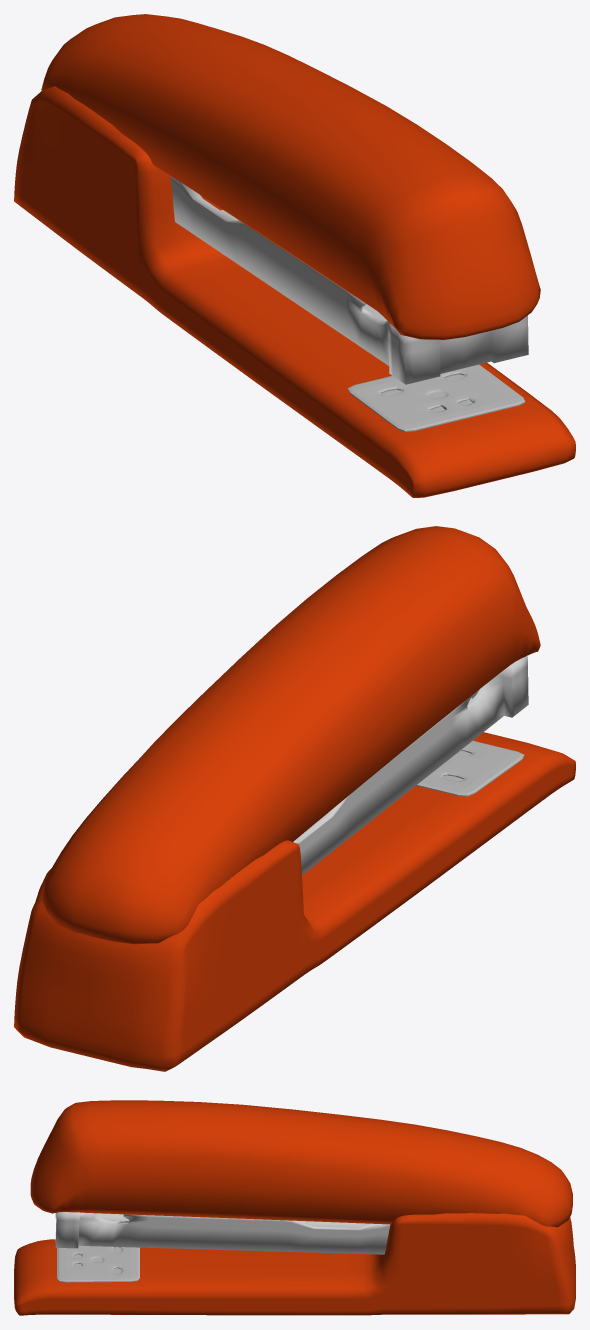
Rendered from stapler.fbx.
The picture shows the model from 3 angles, top to bottom: view 1: azimuth 30°, elevation 25°; view 2: azimuth 150°, elevation 25°; view 3: azimuth 270°, elevation 25°; orthographic projection. The views are drawn at different scales.
Visible parts, largest first — view 1: Handle, Base, Carrier, anvil; view 2: Handle, Base, Carrier, anvil; view 3: Handle, Base, Carrier, anvil, Carrier (interior).
Part boxes in pixels (x1=…): Handle: x1=41, y1=14, x2=540, y2=339; Base: x1=14, y1=86, x2=575, y2=497; Carrier: x1=171, y1=176, x2=528, y2=384; anvil: x1=348, y1=364, x2=525, y2=431; Handle: x1=41, y1=526, x2=540, y2=944; Base: x1=14, y1=732, x2=575, y2=1071; Carrier: x1=293, y1=656, x2=528, y2=875; anvil: x1=416, y1=740, x2=524, y2=796; Handle: x1=30, y1=1100, x2=572, y2=1227; Base: x1=14, y1=1213, x2=575, y2=1315; Carrier: x1=55, y1=1212, x2=390, y2=1254; anvil: x1=57, y1=1245, x2=139, y2=1282; Carrier (interior): x1=98, y1=1213, x2=367, y2=1227.
Bounding box in the file's own units: 0.2285 × 0.3622 × 0.9955.
